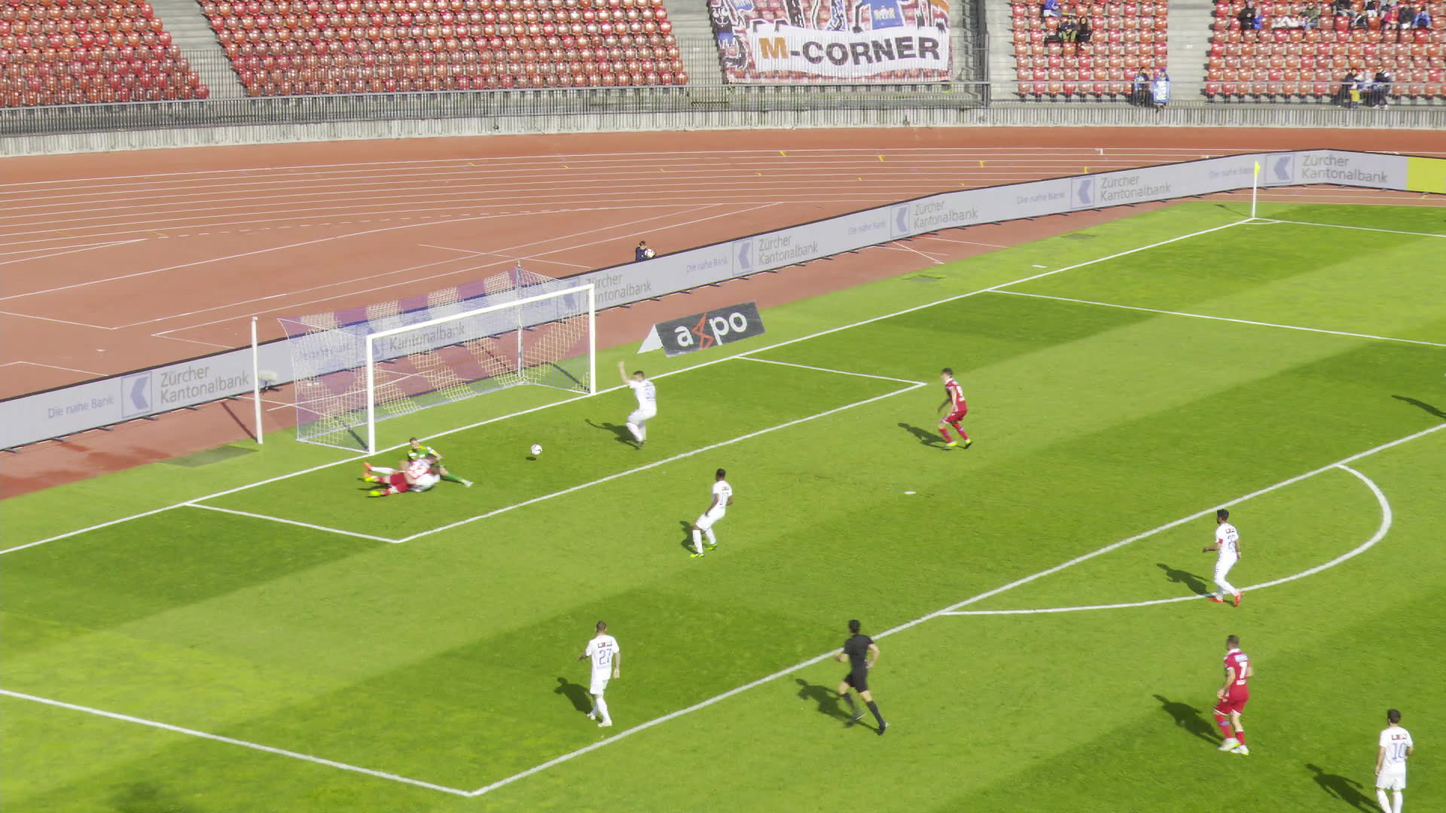ball: (528, 445, 541, 456)
player: (1213, 632, 1262, 753), (1365, 705, 1416, 812), (1197, 507, 1249, 607), (578, 618, 622, 726), (393, 431, 473, 486), (688, 467, 735, 558), (619, 358, 661, 449), (939, 365, 977, 451), (371, 453, 441, 498), (365, 458, 443, 489)
referee: (837, 621, 892, 735)
